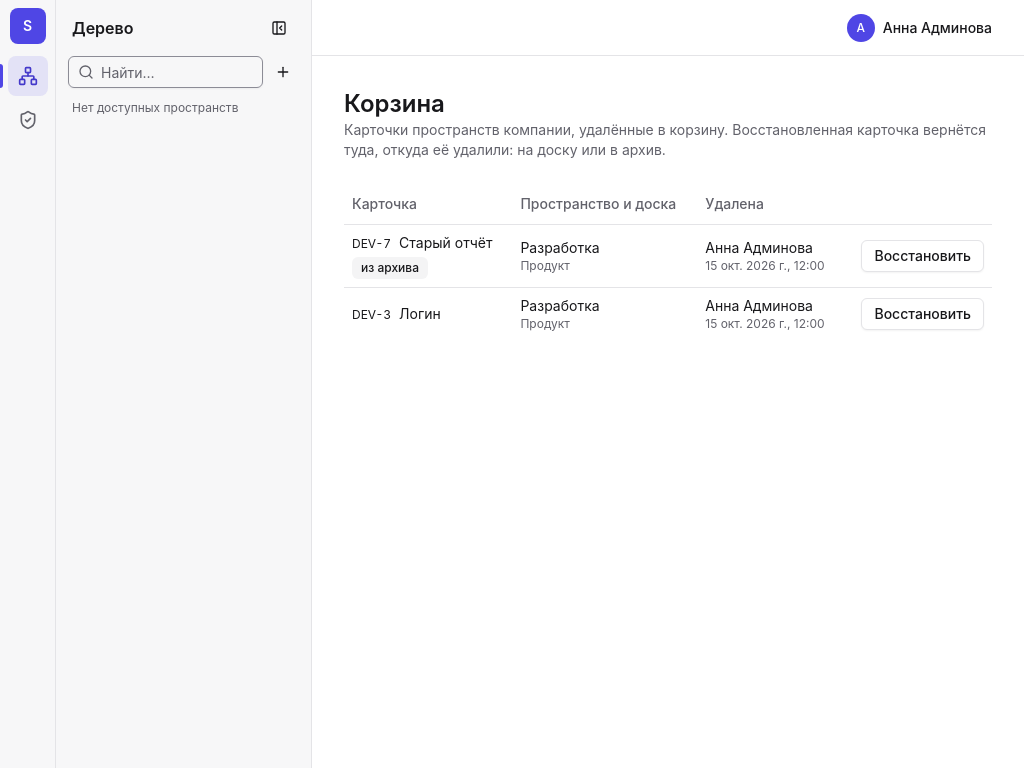
Test: Корзина › список удалённых карточек: номер, название, где лежала, кто и когда удалил; восстановление
Expected: the heading "Корзина" is shown, [344,89,445,118]
Expected: the text "Старый отчёт" shows "DEV-7", [352,236,391,250]
Step 1. Click the button with aria-label "Восстановить DEV-3" → [923, 314], box [862,298,984,330]
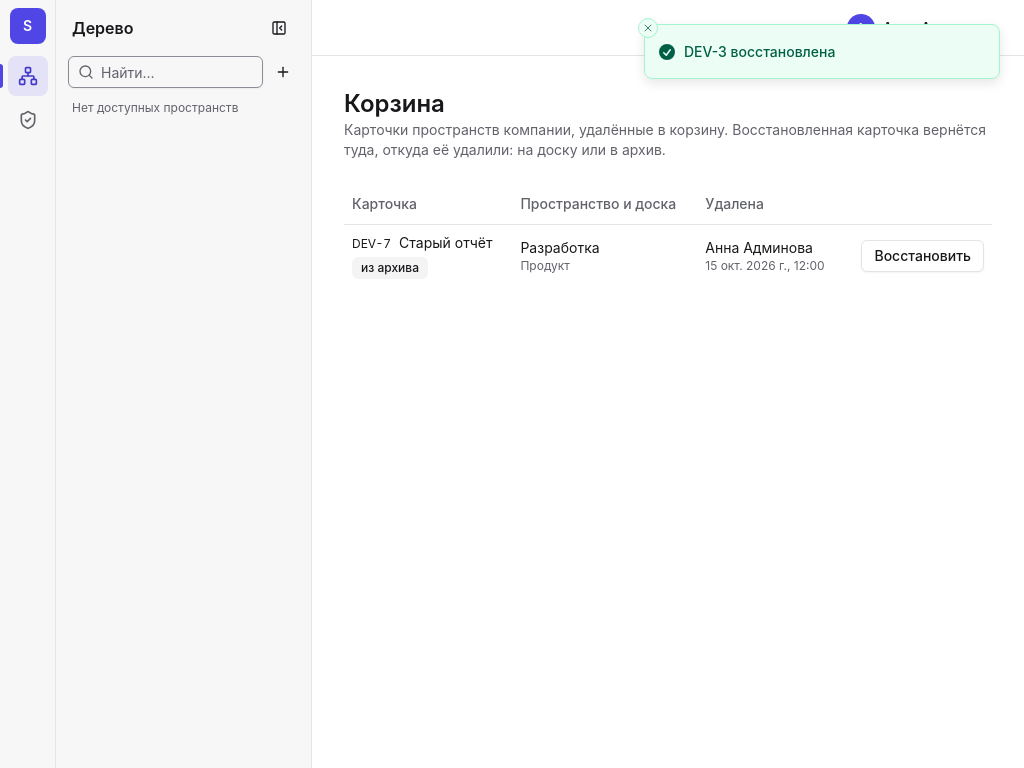
Now the text "DEV-3 восстановлена" is shown, box [684,41,835,62]
Now the text "Логин" is gone
